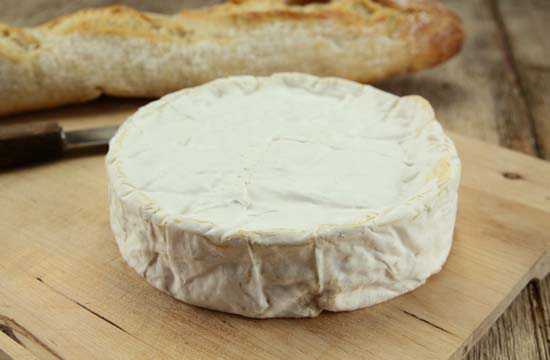camembert: (105, 71, 463, 320)
